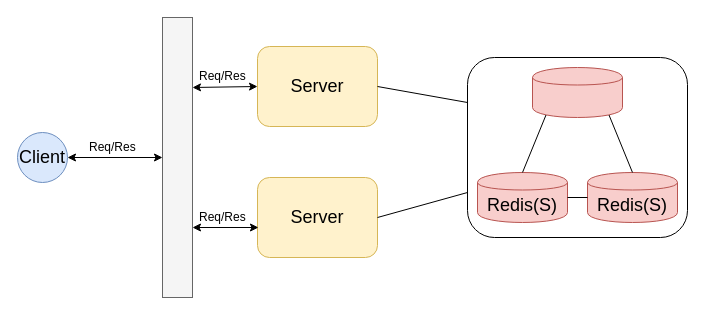
Some shapes in this 705 by 315 pixel diagram are drawn without their labels. The shapes that lost their labels are listed below. From the top down, each one's centre as x and y in pixels, then its label:
the point at 577,92: Redis(M)
the point at 177,157: LB
